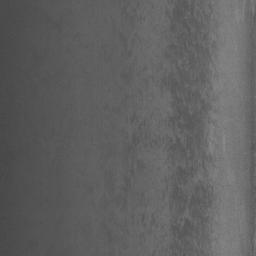Silk spot: (101, 0, 221, 256)
